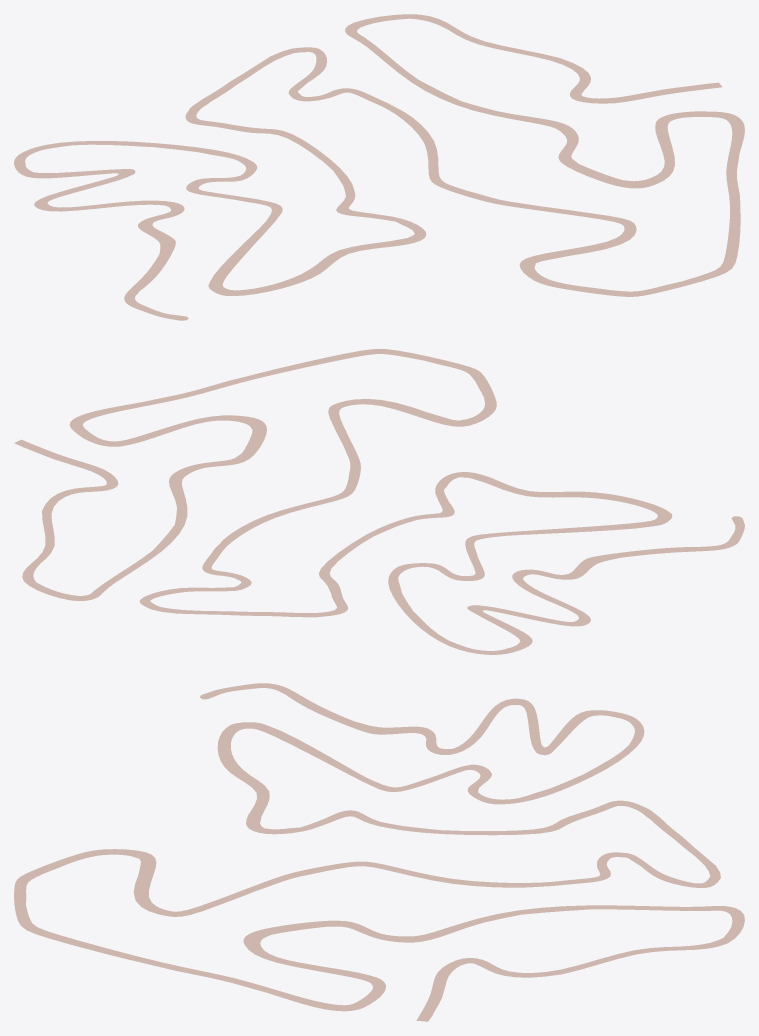
Rendered from duong di trong map (4).fbx.
The picture shows the model from 3 angles, top to bottom: view 1: azimuth 30°, elevation 25°; view 2: azimuth 150°, elevation 25°; view 3: azimuth 270°, elevation 25°; orthographic projection. The views are drawn at different scales.
Visible parts, largest first — view 1: duong_di; view 2: duong_di; view 3: duong_di.
Boxes of the visible parts, x1=… form: duong_di: x1=14, y1=14, x2=744, y2=320; duong_di: x1=14, y1=349, x2=744, y2=654; duong_di: x1=14, y1=683, x2=744, y2=1021.
Bounding box in the file's own units: 81.36 × 2.98e-08 × 74.25.
